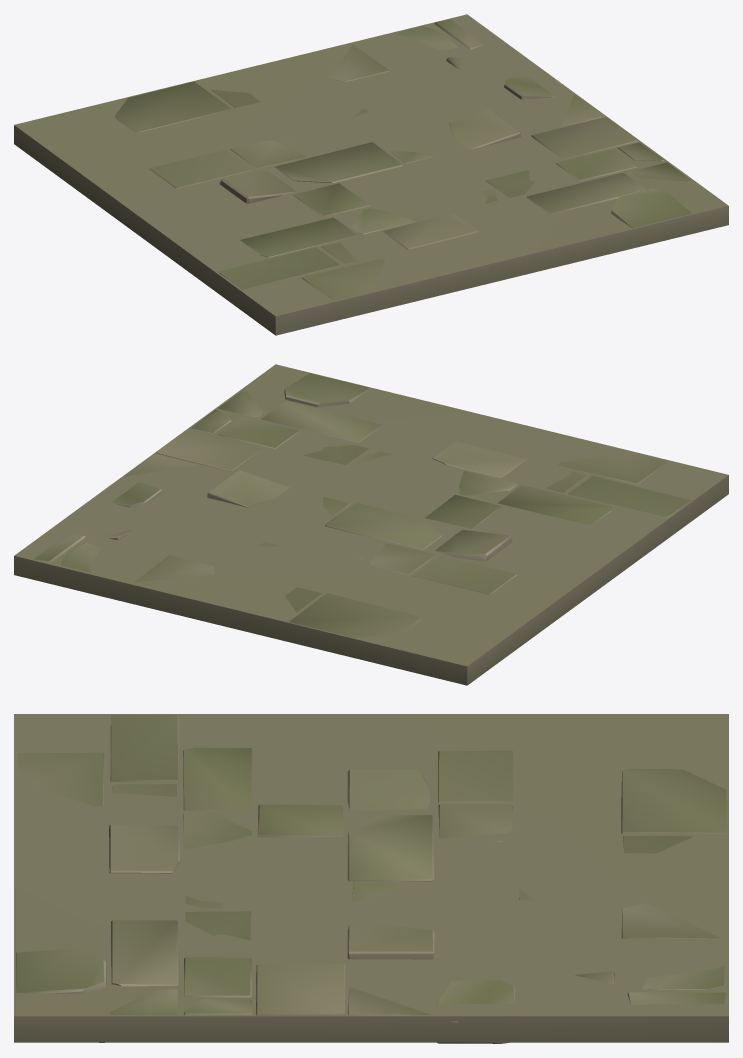
File: agora_paving.glb
The picture shows the model from 3 angles, top to bottom: view 1: azimuth 30°, elevation 25°; view 2: azimuth 150°, elevation 25°; view 3: azimuth 270°, elevation 25°; orthographic projection. The views are drawn at different scales.
Parts seen in each view (by area): view 1: agora_paving_far, agora_paving; view 2: agora_paving_far, agora_paving; view 3: agora_paving_far, agora_paving.
Part boxes in pixels (x1=…): agora_paving_far: x1=14, y1=14, x2=728, y2=335; agora_paving: x1=114, y1=20, x2=692, y2=300; agora_paving_far: x1=14, y1=364, x2=728, y2=685; agora_paving: x1=34, y1=373, x2=690, y2=637; agora_paving_far: x1=14, y1=714, x2=728, y2=1042; agora_paving: x1=16, y1=715, x2=727, y2=1043.
Size of the model in its own units: 18.51 by 1.08 by 18.5.
